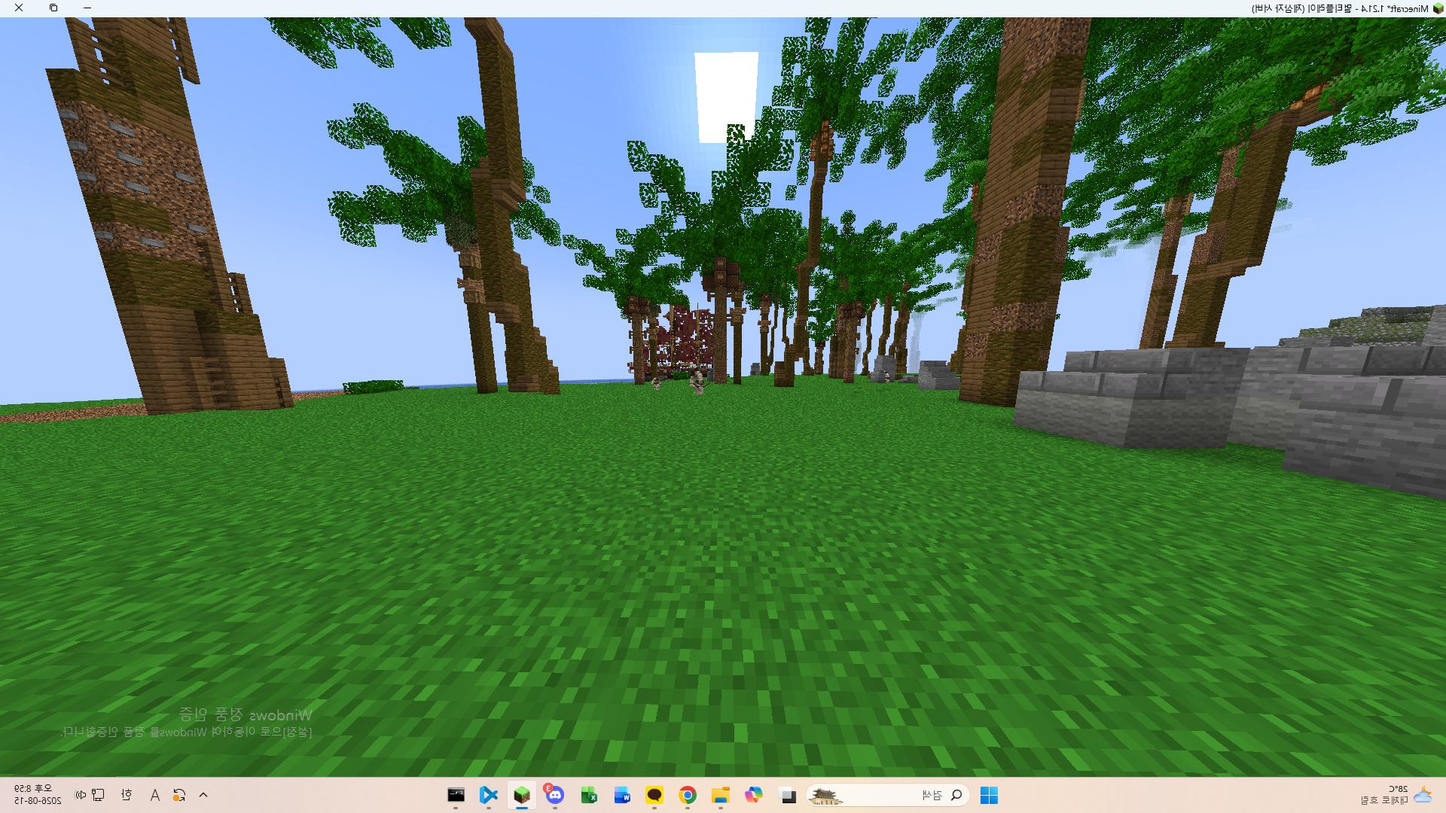bow_indian: (679, 356, 715, 403)
